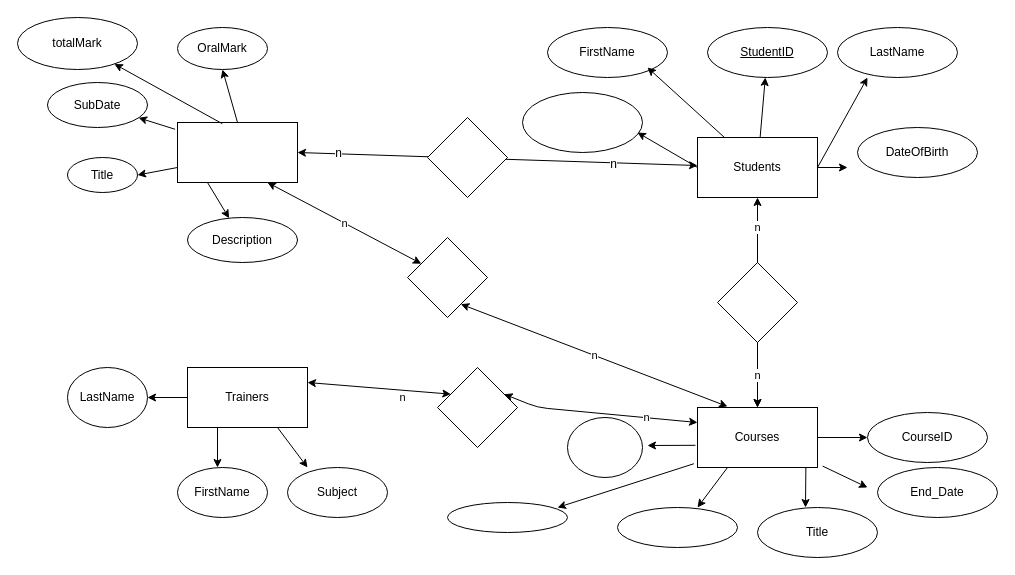
The diagram is 1015 pixels wide and 575 high, and some of its shapes have lost their labels. Each missing label, with the centre of its shape:
Assignments: point (237, 152)
Have: point (447, 277)
Registers: point (757, 302)
Start_End: point (507, 517)
Stream: point (677, 527)
Teaching: point (477, 407)
ToDo: point (467, 157)
TuitionFees: point (582, 122)
Type: point (604, 447)
